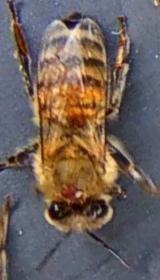varroa_mite: (52, 174, 92, 205)
